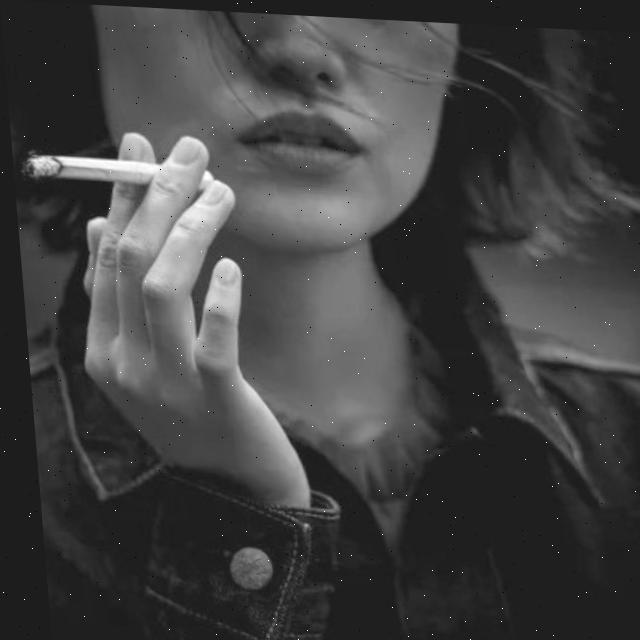cigarette: (18, 153, 161, 185)
